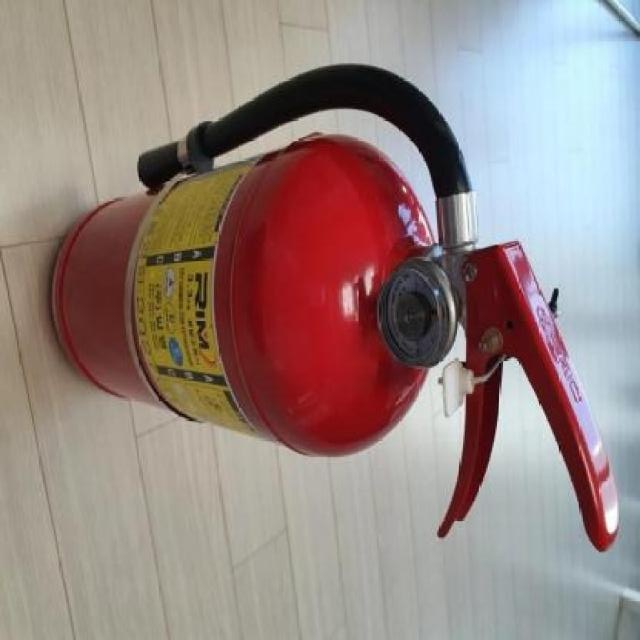fire extinguisher: (50, 64, 619, 556)
